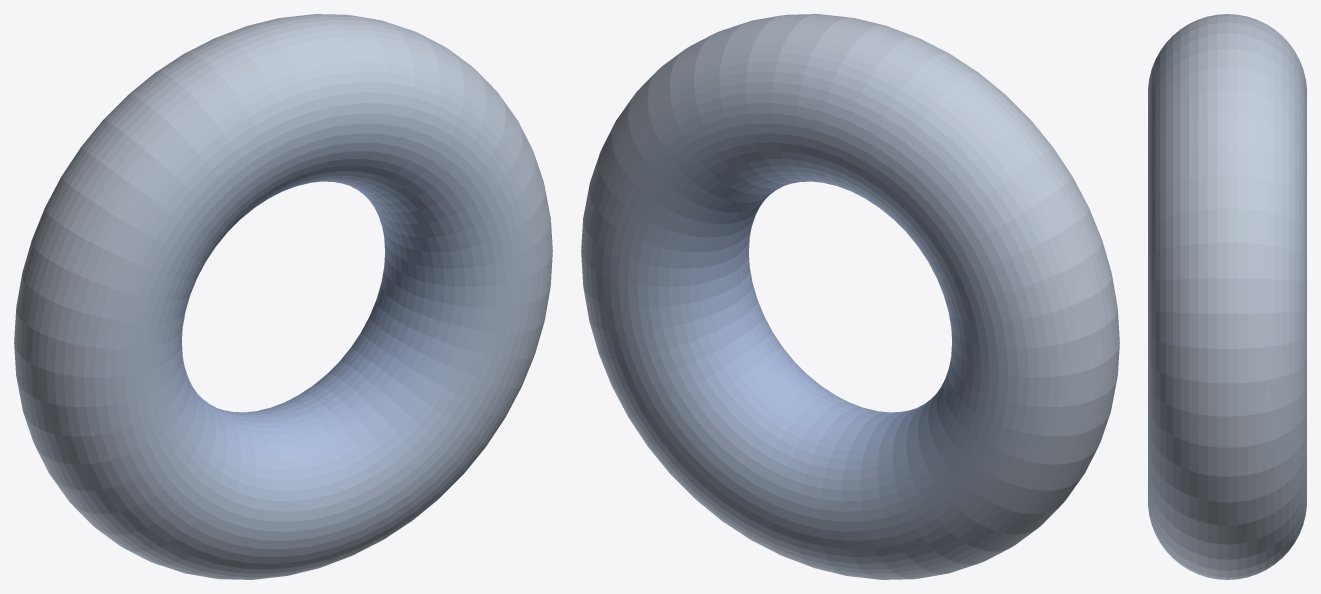
3 renders of one model, left to right at view 1: azimuth 30°, elevation 25°; view 2: azimuth 150°, elevation 25°; view 3: azimuth 270°, elevation 25°, orthographic. The views are drawn at different scales.
Visible parts, largest first — view 1: world; view 2: world; view 3: world.
Boxes of the visible parts, <box> form: world: <box>14,14,552,579</box>; world: <box>581,14,1119,579</box>; world: <box>1148,14,1306,579</box>.
Size of the model in its own units: 22.27 by 22.22 by 6.25.
